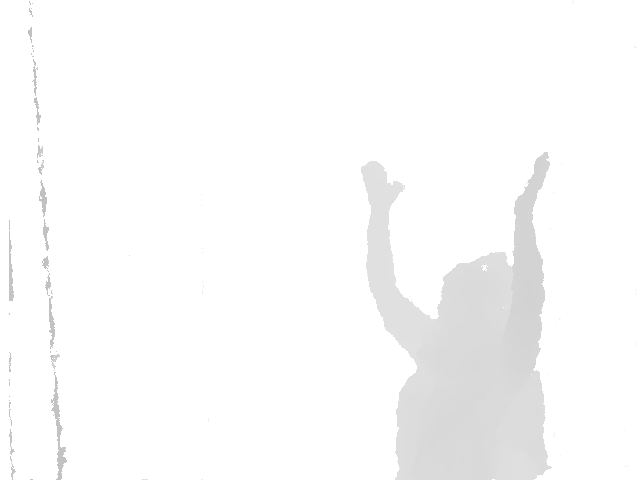hand: (359, 158, 406, 205), (516, 150, 553, 208)
head: (436, 252, 514, 325)
person: (361, 152, 553, 480)
